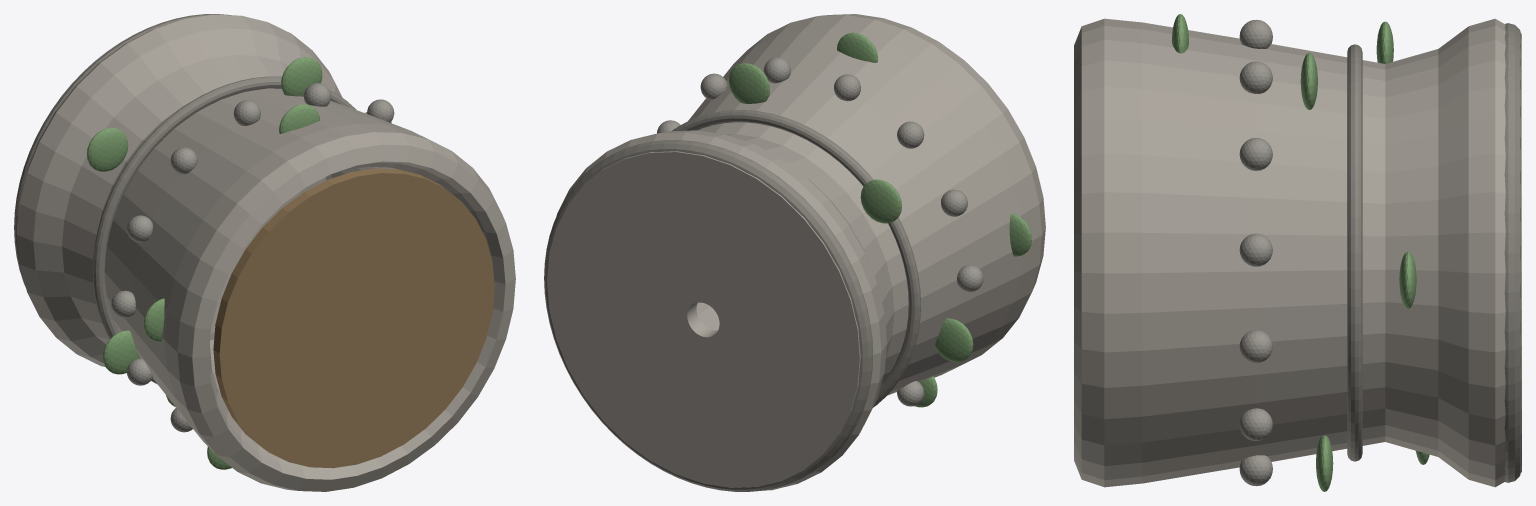
The model's file is pot_uncommon_1.glb.
The picture shows the model from 3 angles, left to right: view 1: azimuth 30°, elevation 25°; view 2: azimuth 150°, elevation 25°; view 3: azimuth 270°, elevation 25°; orthographic projection. The views are drawn at different scales.
Parts seen in each view (by area): view 1: world; view 2: world; view 3: world.
Boxes of the visible parts, x1,y1,x2,y2 form: world: (14, 14, 515, 491); world: (544, 14, 1045, 491); world: (1074, 14, 1521, 491).
Bounding box in the file's own units: 6.5 × 6.6 × 5.9.
